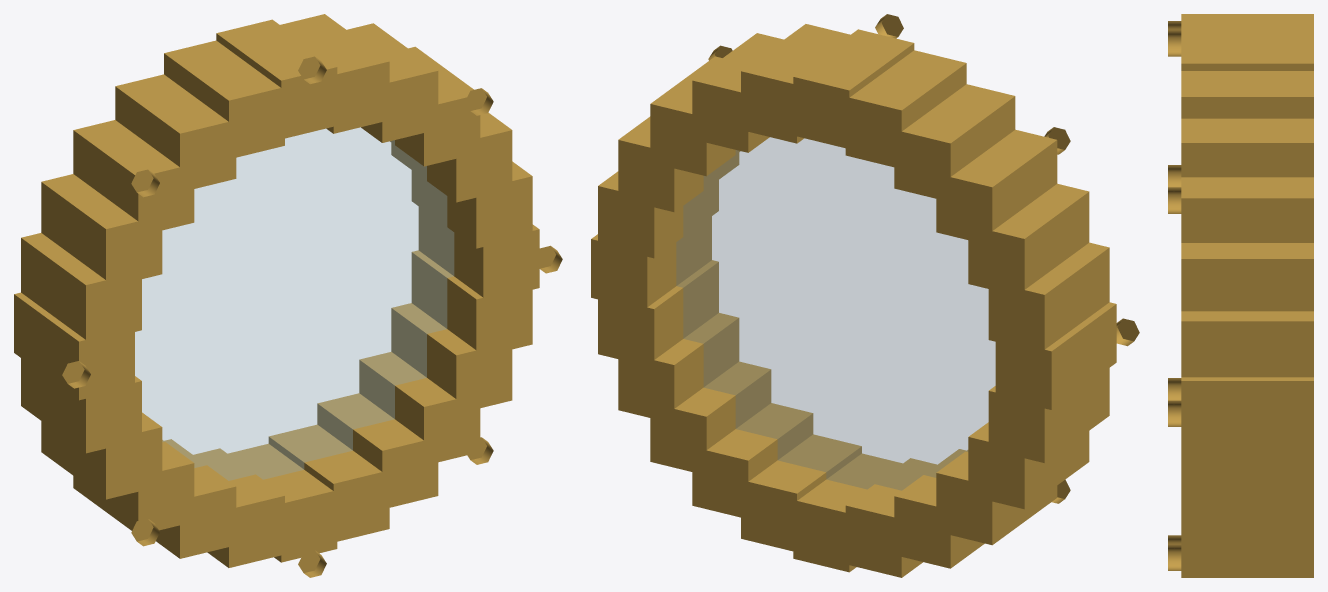
The model's file is window_porthole.glb.
3 renders of one model, left to right at view 1: azimuth 30°, elevation 25°; view 2: azimuth 150°, elevation 25°; view 3: azimuth 270°, elevation 25°, orthographic. The views are drawn at different scales.
Visible parts, largest first — view 1: porthole; view 2: porthole; view 3: porthole.
Part boxes in pixels (left/top/right/bottom): porthole: left=14, top=14, right=562, bottom=577; porthole: left=591, top=14, right=1139, bottom=577; porthole: left=1168, top=14, right=1313, bottom=577.
Size of the model in its own units: 0.88 by 0.8746 by 0.22.
